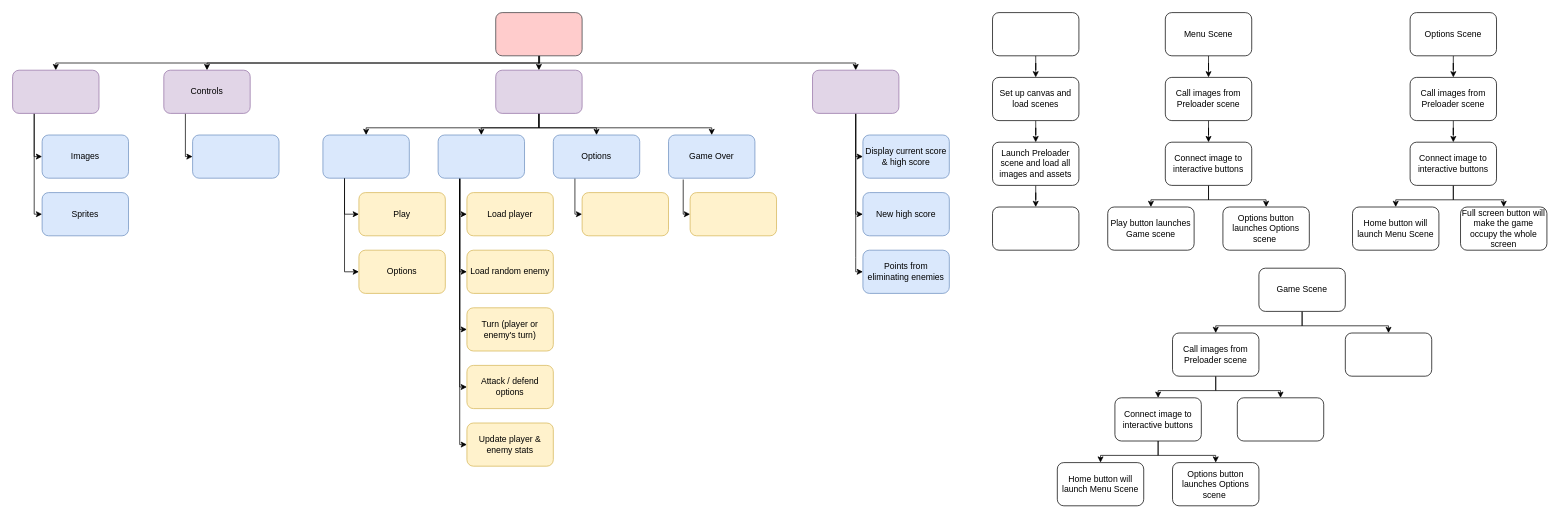
Image size: 1560x518. Some labels were removed from this diagram. The centre of each missing label's shape, as x and y in pixels:
"Connect images to player class and enemy class" belongs at pixel 1280 419.
"CS Game" belongs at pixel 538 34.
"Fullscreen" belongs at pixel 625 214.
"Game" belongs at pixel 481 156.
"Game Config" belongs at pixel 1035 34.
"Game over screen" belongs at pixel 733 214.
"Initialisation" belongs at pixel 55 91.
"Launch UI scene simultaneously on top of game scene" belongs at pixel 1388 354.
"Launches Menu scene" belongs at pixel 1035 228.
"Menu" belongs at pixel 365 156.
"Mouse" belongs at pixel 235 156.
"Scenes" belongs at pixel 538 91.
"Scoring" belongs at pixel 855 91.
